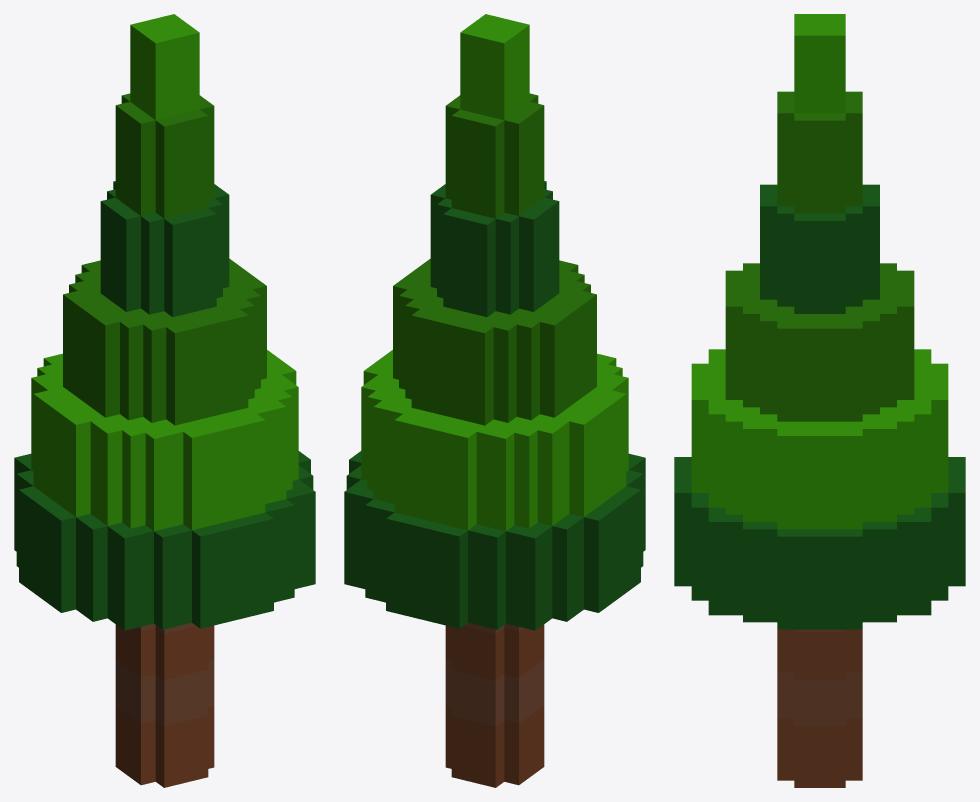
Rendered from tree5.obj.
The picture shows the model from 3 angles, left to right: view 1: azimuth 30°, elevation 25°; view 2: azimuth 150°, elevation 25°; view 3: azimuth 270°, elevation 25°; orthographic projection.
Size of the model in its own units: 1.7 by 4.8 by 1.7.
Materials: 1 (1 with a texture image).
